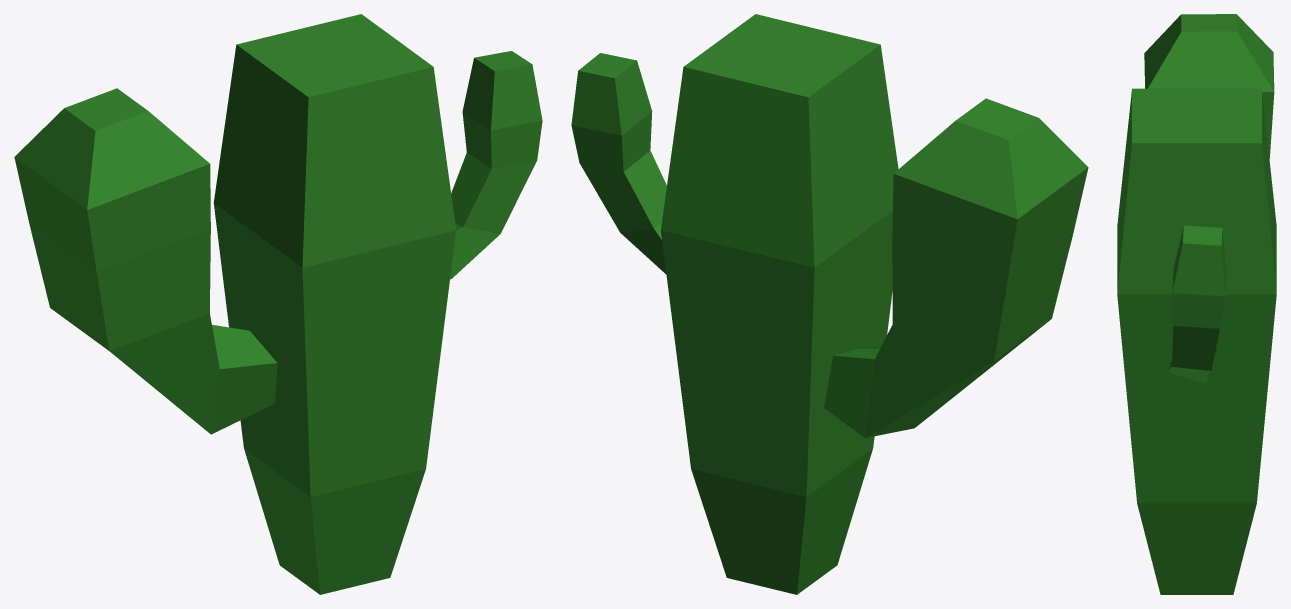
The model's file is kaktus.fbx.
3 views of the same model, side by side, from view 1: azimuth 30°, elevation 25°; view 2: azimuth 150°, elevation 25°; view 3: azimuth 270°, elevation 25° (orthographic). The views are drawn at different scales.
Parts seen in each view (by area): view 1: Cube; view 2: Cube; view 3: Cube.
Part boxes in pixels (box(x1,y1,x2,y2)): Cube: box(14, 14, 542, 594); Cube: box(571, 14, 1088, 594); Cube: box(1117, 14, 1276, 594).
Bounding box in the file's own units: 615 × 641 × 200.
